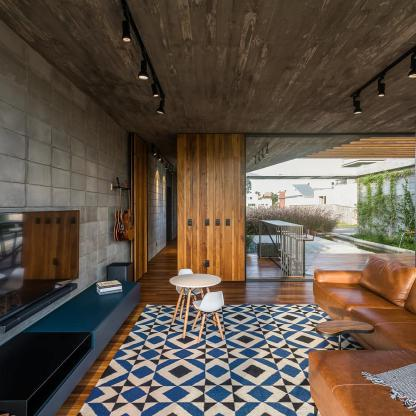kursi: (193, 294, 229, 340)
sova: (282, 255, 416, 415)
tv: (1, 207, 86, 312)
